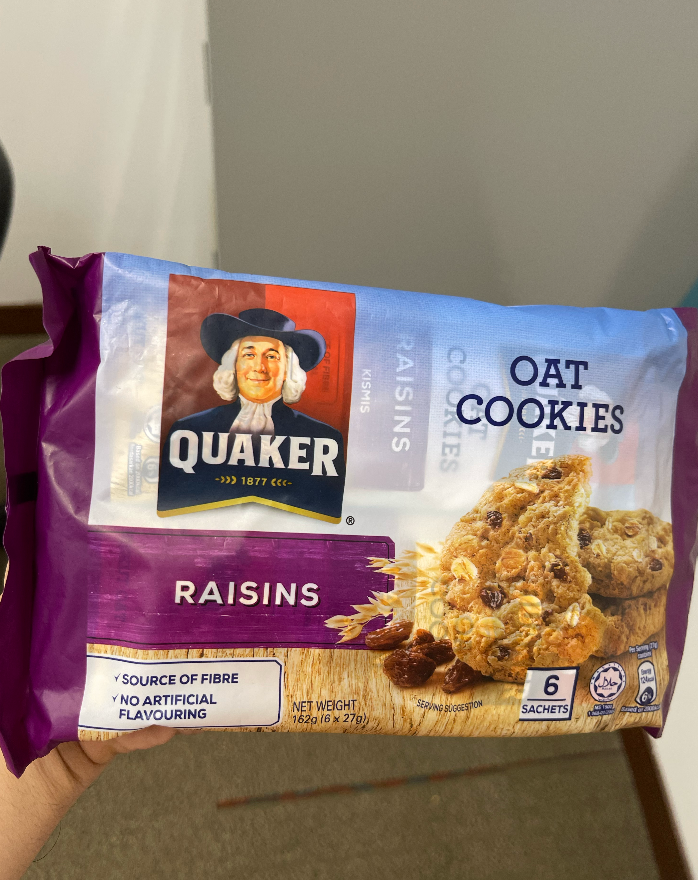cookies_100g-199g: (52, 272, 663, 738)
